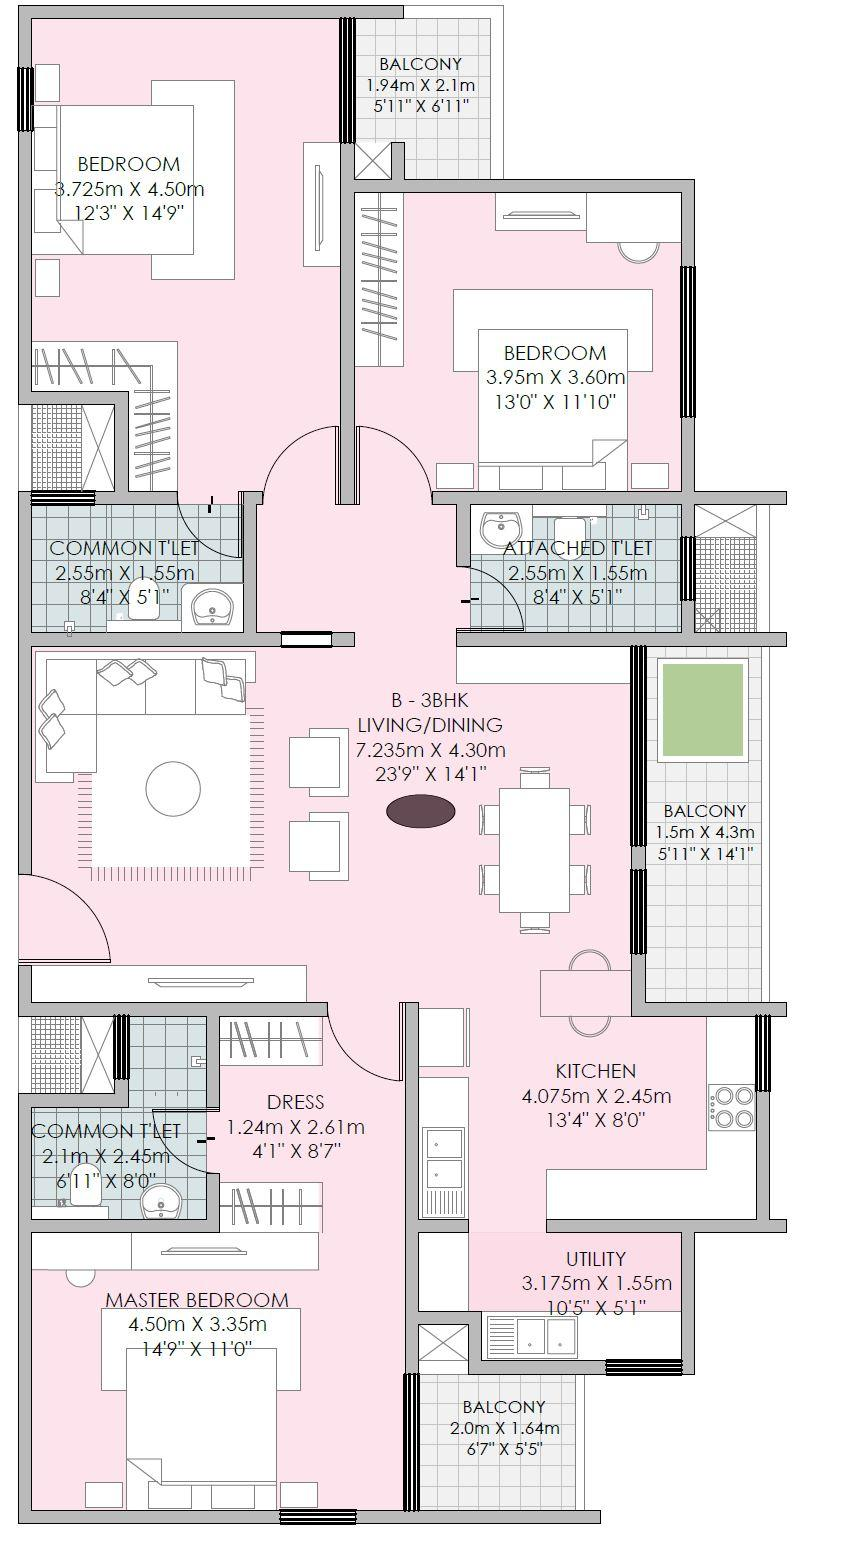Balcony: (411, 1370, 581, 1515)
Bed: (471, 328, 629, 487), (29, 100, 189, 254), (126, 1349, 274, 1506)
Bedroom: (28, 17, 342, 490), (31, 1230, 406, 1518), (352, 189, 682, 492)
Dining Room: (395, 646, 638, 1023)
Dining table: (474, 774, 591, 932)
Kitchen: (417, 1015, 759, 1221)
Living Room: (32, 646, 403, 1012)
Sofa: (45, 656, 258, 715), (38, 664, 100, 775), (290, 812, 353, 887), (292, 734, 353, 803)
Terrace: (643, 658, 766, 1002), (353, 9, 497, 179)
Wardrobe: (354, 195, 403, 378), (29, 339, 175, 387), (125, 353, 175, 491), (216, 1016, 328, 1068), (456, 652, 629, 681), (220, 1186, 321, 1226)
commode: (123, 574, 163, 618), (553, 512, 591, 556), (73, 1161, 101, 1214)
door: (628, 645, 656, 962), (19, 872, 110, 959), (323, 998, 403, 1088), (265, 411, 337, 489), (356, 421, 427, 490), (458, 564, 529, 627), (153, 1108, 217, 1174), (176, 495, 238, 562)
dress: (217, 1019, 398, 1232)
fridge: (420, 1009, 470, 1064)
kitchen-slab: (703, 1013, 757, 1218), (483, 1305, 679, 1362), (543, 1171, 760, 1220), (418, 1080, 467, 1215), (420, 1235, 467, 1310)
sink: (483, 1307, 587, 1361), (420, 1127, 465, 1221), (179, 577, 239, 631), (475, 511, 529, 561), (139, 1174, 183, 1223)
stove: (707, 1082, 751, 1135)
toilet: (25, 1015, 214, 1224), (467, 512, 691, 633), (38, 505, 235, 631)
tv: (131, 1232, 286, 1271), (489, 194, 620, 238), (131, 969, 257, 1003), (306, 145, 334, 264)
utility: (417, 1229, 687, 1370)
